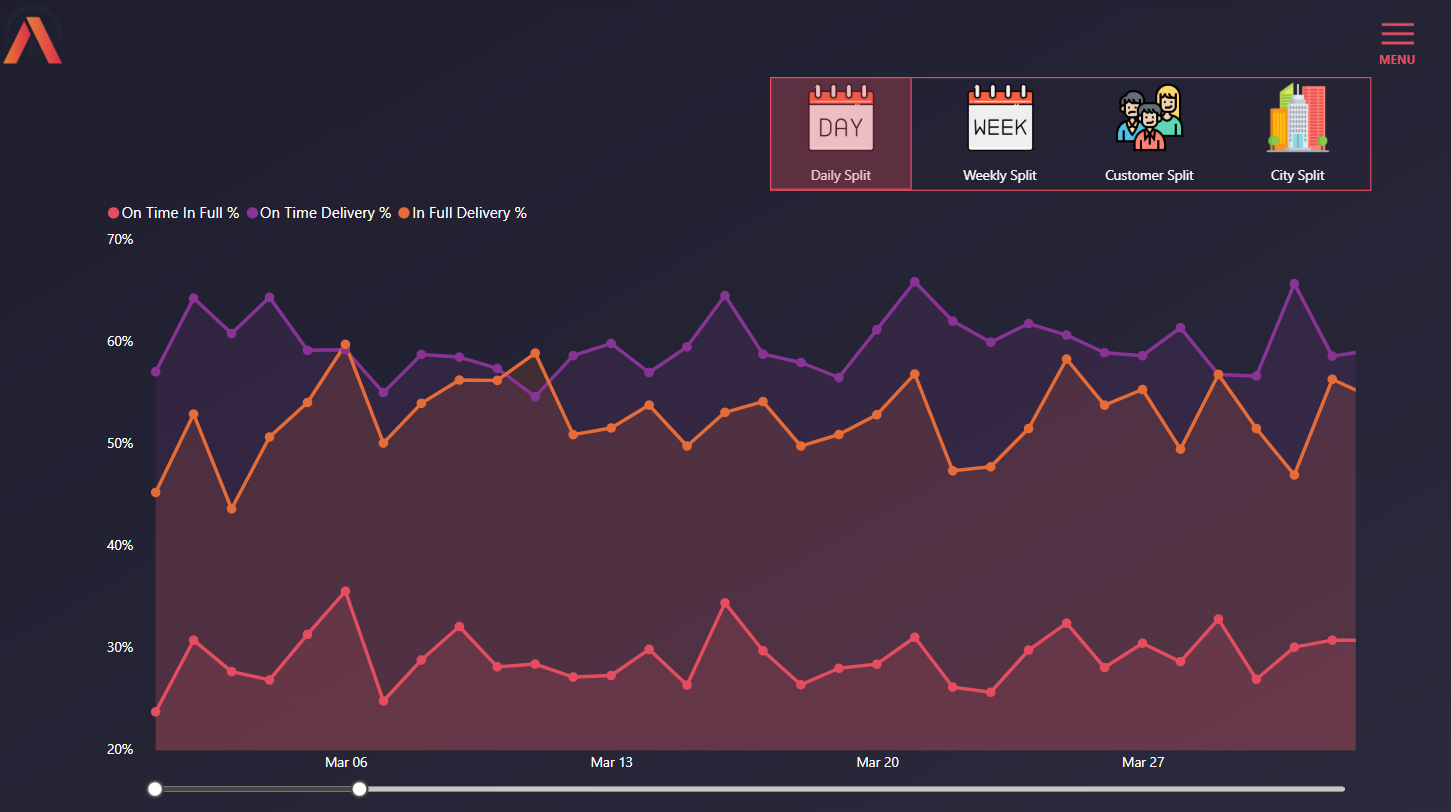

Layout of this report page (visuals, bound fields, positions):
{"tool":"powerbi","page":{"name":"Business View","canvas":[1280,720],"ordinal":3},"visuals":[{"type":"image","title":"logo","box":[0,0,65.9,63.2],"z":0},{"type":"lineChart","title":"OTIF,OT & IF daily split","fields":{"Y":["Key Measures.On Time In Full %","Key Measures.On Time Delivery %","Key Measures.In Full Delivery %"],"Category":["dim_date.date.Variation.Date Hierarchy.Year","dim_date.date.Variation.Date Hierarchy.Month","dim_date.date.Variation.Date Hierarchy.Day"]},"box":[92.4,168.8,1115.7,537.3],"z":3000},{"type":"textbox","title":"MenuText","box":[1186.5,38.8,87.8,30.8],"z":4000},{"type":"image","title":"menu","box":[1207,8,46.8,46.8],"z":5000},{"type":"shape","box":[679.9,69.6,528,100.4],"z":7000},{"type":"image","title":"day","box":[679.9,69.6,124.3,70.7],"z":8000},{"type":"image","title":"week","box":[824.8,69.6,114.1,70.7],"z":9000},{"type":"image","title":"customer","box":[968.6,69.6,89,70.7],"z":10000},{"type":"image","title":"city","box":[1089.5,69.6,107.2,70.7],"z":11000},{"type":"textbox","title":"daily Text box","box":[679.9,140.3,124.3,28.5],"z":12000},{"type":"textbox","title":"weekly Text box","box":[824.8,140.3,114.1,29.7],"z":13000},{"type":"textbox","title":"customer Text box","box":[950.3,140.3,125.5,29.7],"z":14000},{"type":"textbox","title":"city Text box","box":[1088.3,140.3,108.4,29.7],"z":15000},{"type":"shape","box":[679.6,69.4,124.7,99.2],"z":16000}]}

Visuals, with their boxes in screenshot pixels (x1, y1, x2, y2), scaled from the page's 1280x720 canvas onto the 1451x812 screenshot:
"logo" image: region(0, 0, 75, 71)
"OTIF,OT & IF daily split" lineChart: region(105, 190, 1369, 796)
"MenuText" textbox: region(1345, 44, 1445, 78)
"menu" image: region(1368, 9, 1421, 62)
shape: region(771, 78, 1369, 192)
"day" image: region(771, 78, 912, 158)
"week" image: region(935, 78, 1064, 158)
"customer" image: region(1098, 78, 1199, 158)
"city" image: region(1235, 78, 1357, 158)
"daily Text box" textbox: region(771, 158, 912, 190)
"weekly Text box" textbox: region(935, 158, 1064, 192)
"customer Text box" textbox: region(1077, 158, 1220, 192)
"city Text box" textbox: region(1234, 158, 1357, 192)
shape: region(770, 78, 912, 190)
